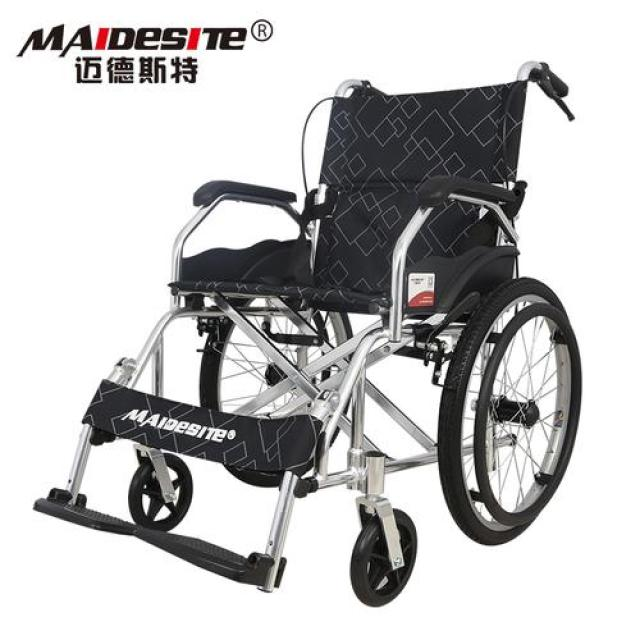wheelchairs: (28, 61, 634, 607)
